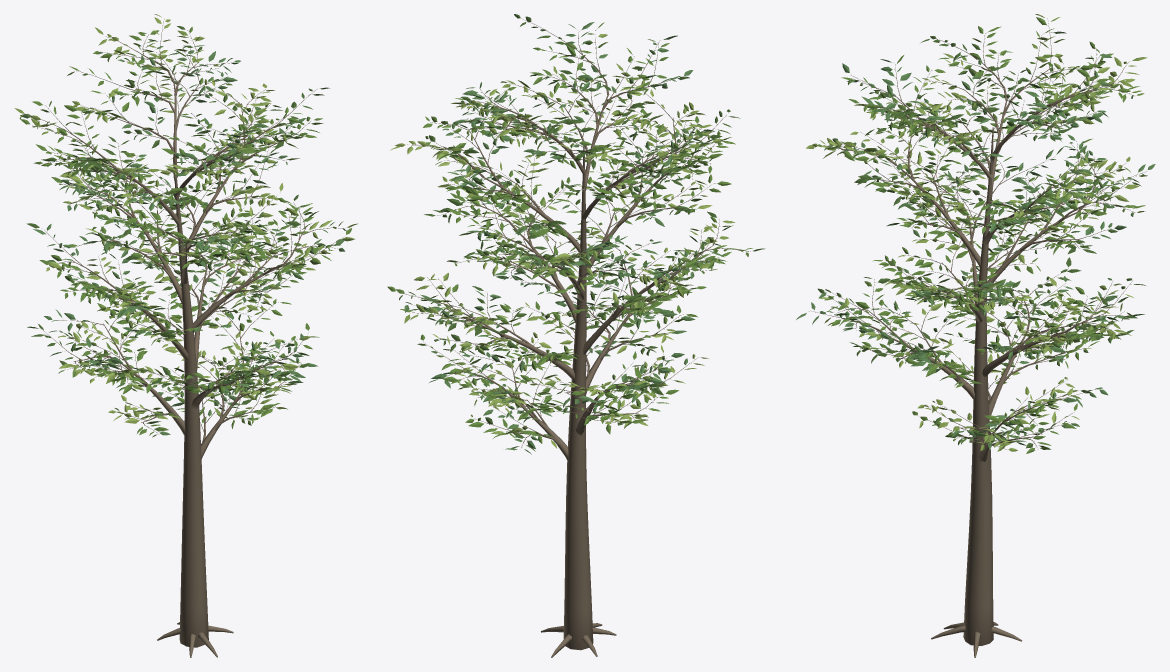
The model's file is broadleaf_upright_high.glb.
3 views of the same model, side by side, from view 1: azimuth 30°, elevation 25°; view 2: azimuth 150°, elevation 25°; view 3: azimuth 270°, elevation 25° (orthographic). The views are drawn at different scales.
Parts seen in each view (by area): view 1: broadleaf_upright_high; view 2: broadleaf_upright_high; view 3: broadleaf_upright_high.
Part boxes in pixels (box(x1,y1,x2,y2)): broadleaf_upright_high: box(14, 14, 358, 657); broadleaf_upright_high: box(387, 14, 765, 657); broadleaf_upright_high: box(796, 14, 1155, 657).
Size of the model in its own units: 5.2 by 9.4 by 5.3.
